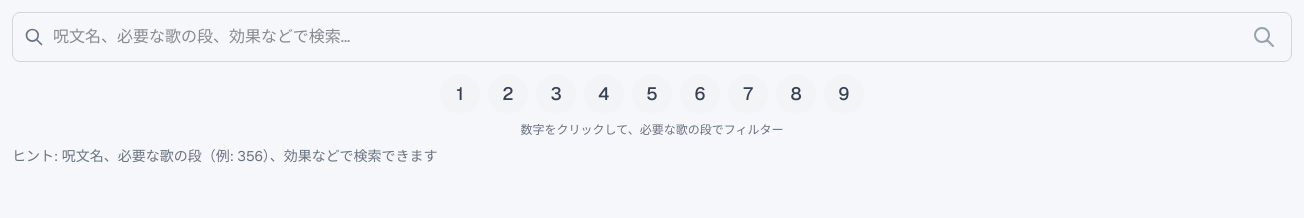
Test case: SearchBox › 検索履歴の項目をクリックすると検索が実行されること
# 検索ボックスにフォーカス
Focus the search field: (652, 37) top-left (12, 12), bottom-right (1292, 62)
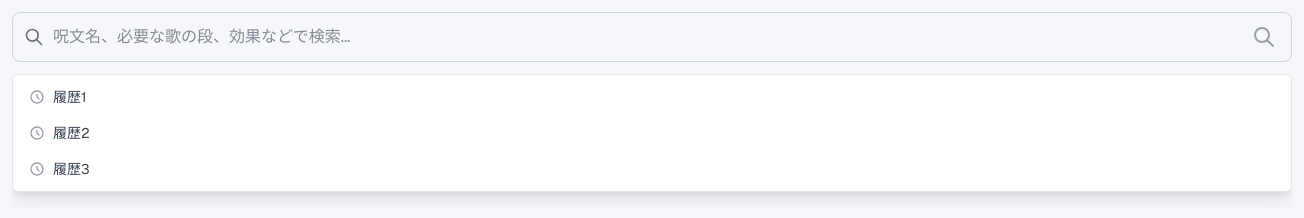
# 検索履歴の項目をクリック
Click the button "履歴2": (71, 133) top-left (13, 115), bottom-right (1291, 151)
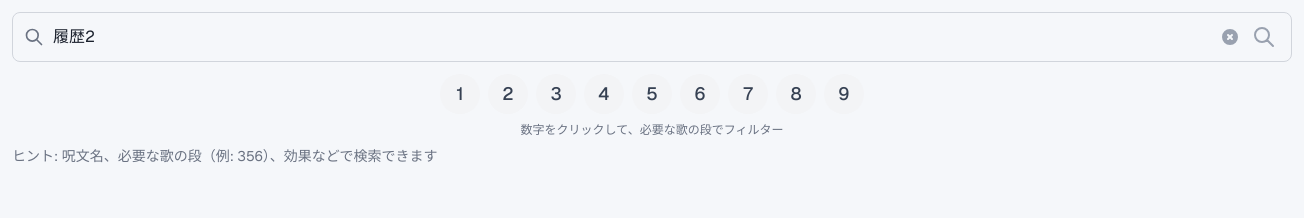
Expected: the search field holds "履歴2", top-left (12, 12), bottom-right (1292, 62)
